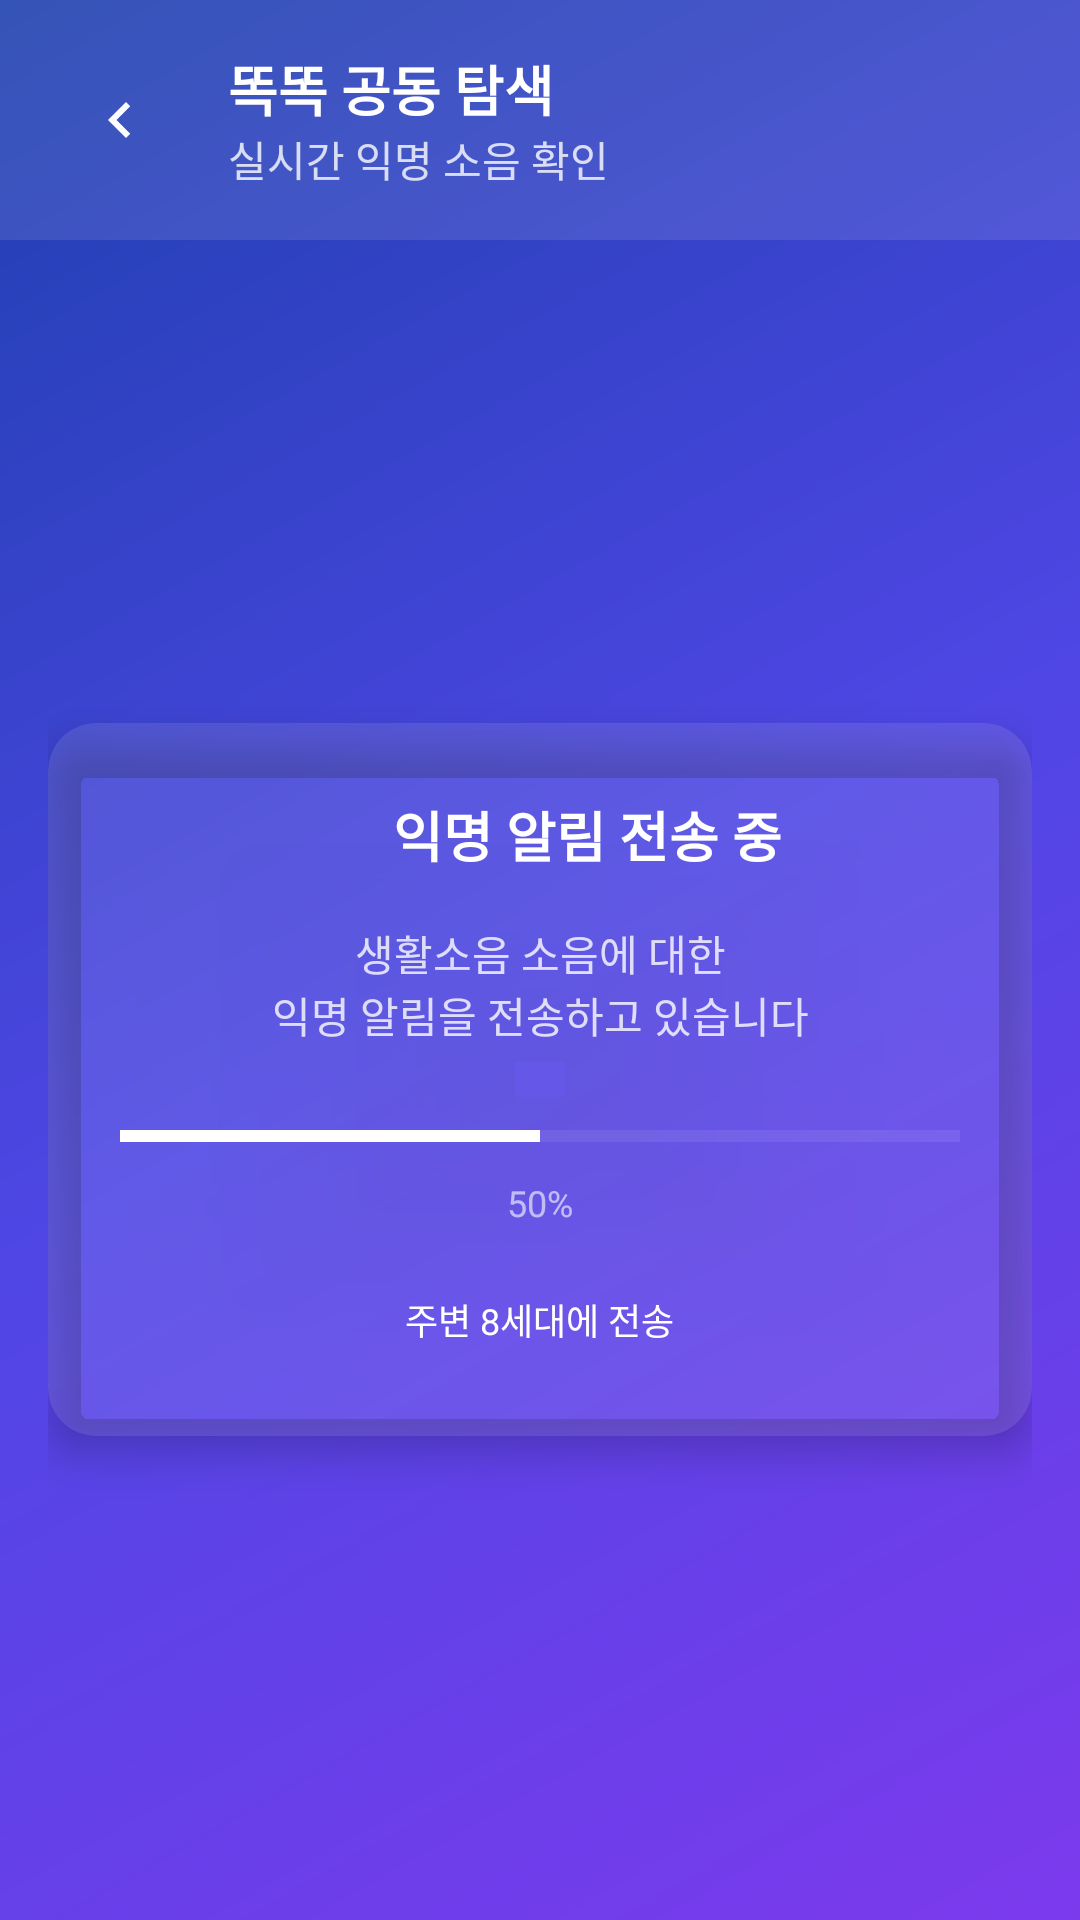

Screen size 1080w x 1920h. Icon name, then its box in pixels as [x1,y1,x2,y2]:
뒤로가기: [108,102,130,138]
